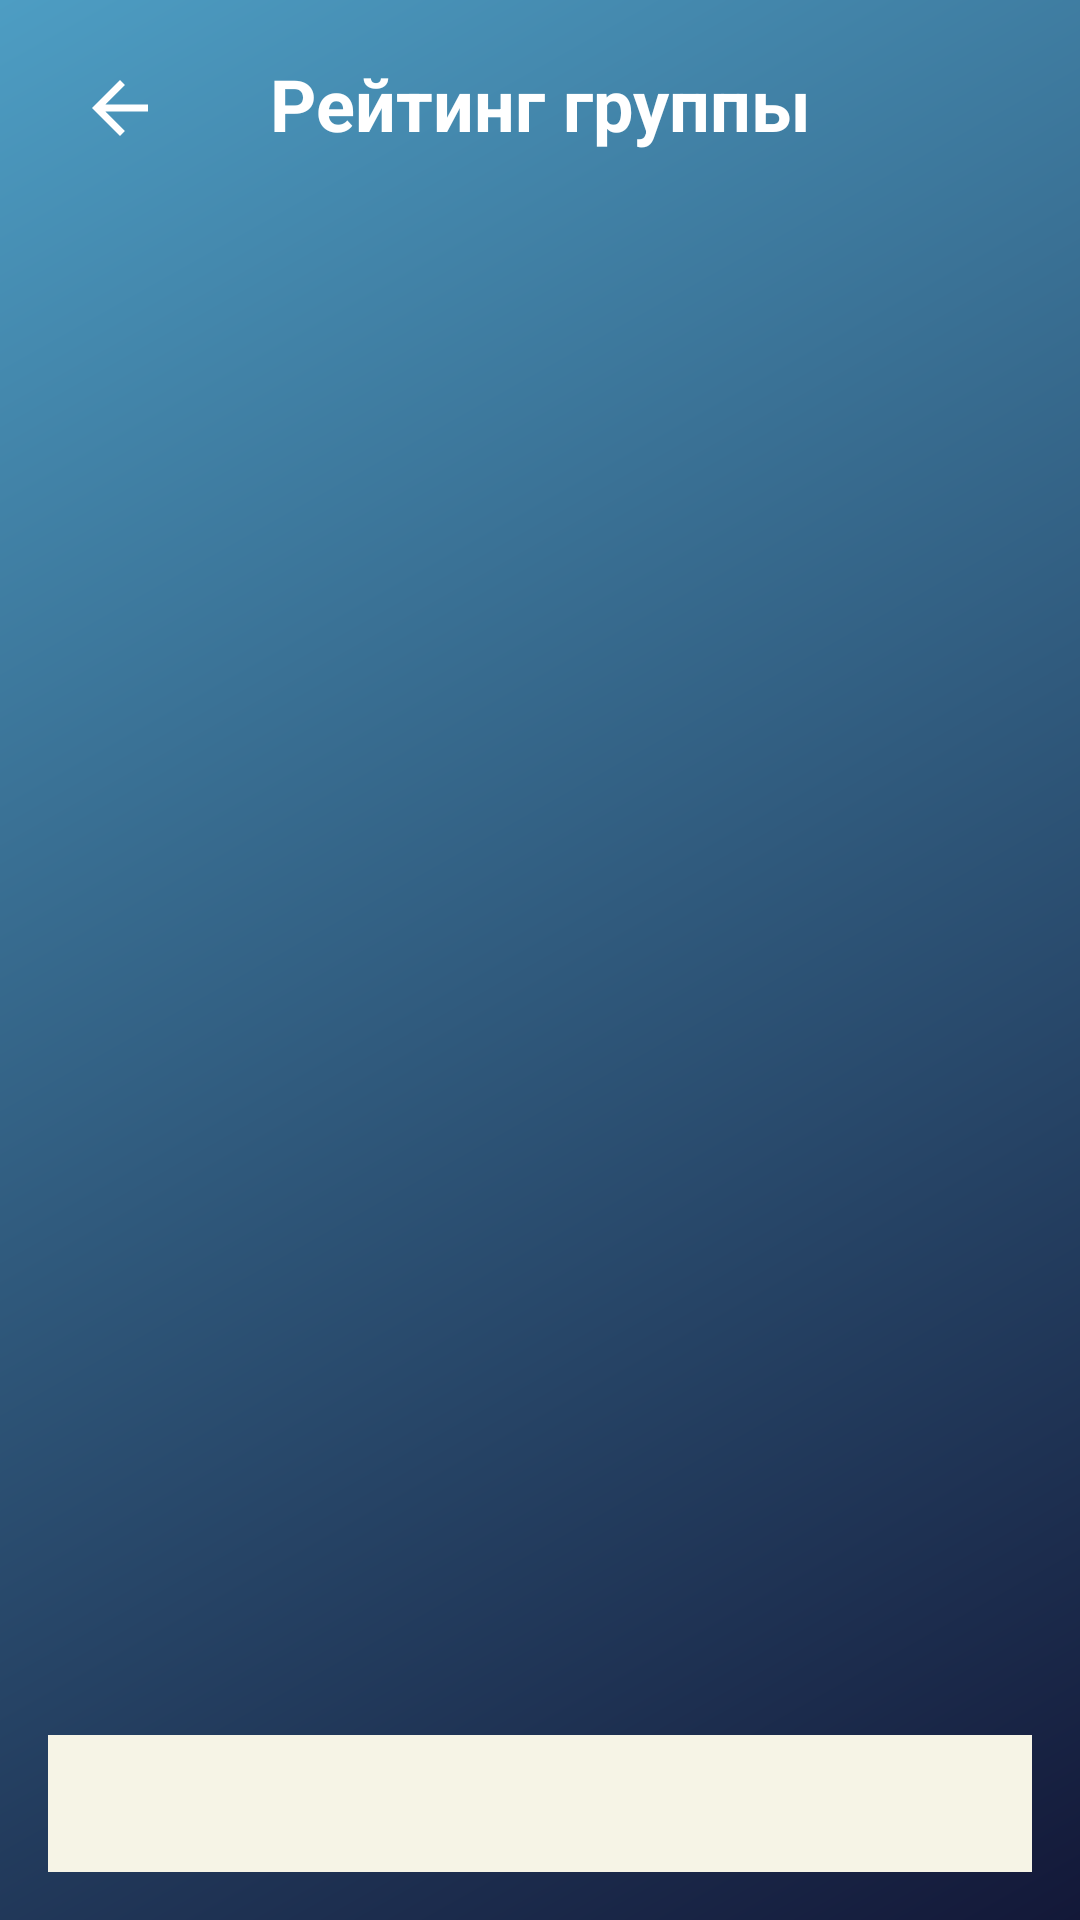

Named icons in this screenshot (1080px x 1920px) and their centers, (x,y):
Назад: (120,108)
